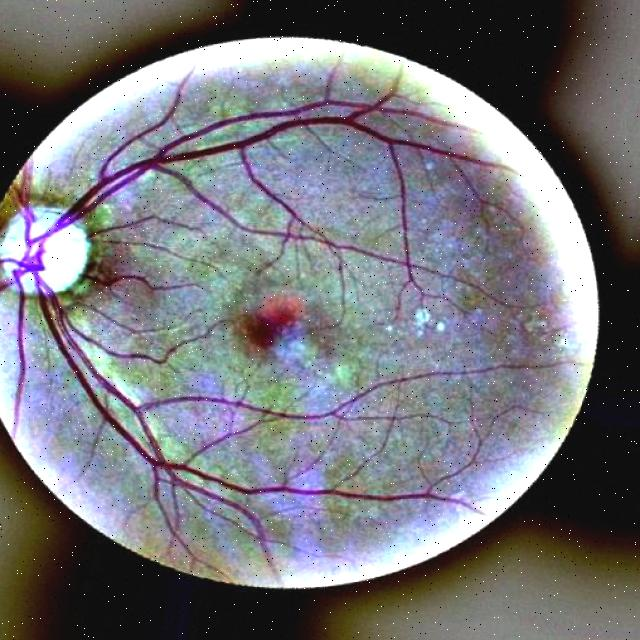Macula: (221, 296, 297, 362)
Nerves: (29, 259, 543, 553), (47, 101, 446, 241)
Optic Disk: (0, 205, 102, 297)
